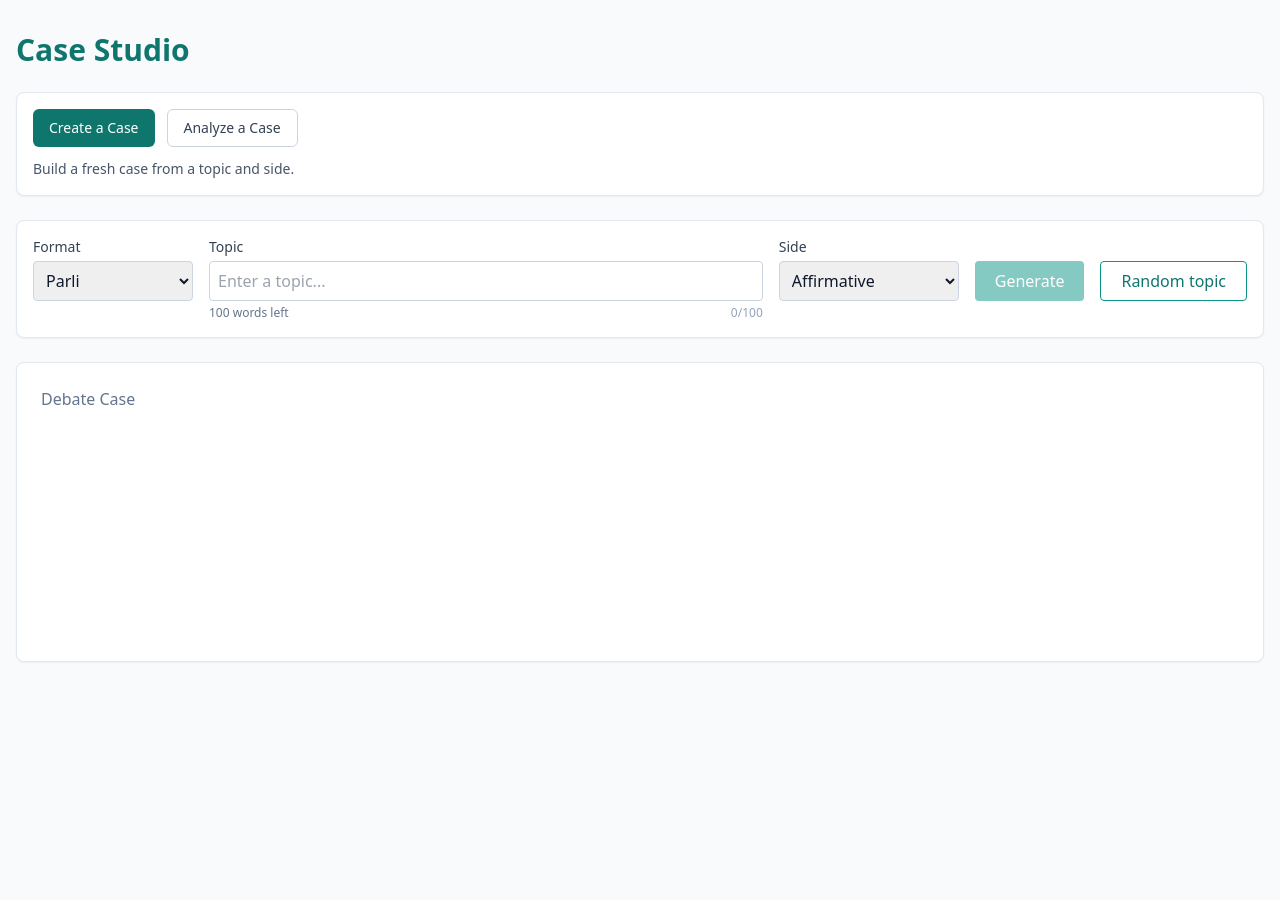
CaseBuilder › displays error state when fetch fails
Type "Topic" into the field labelled "Topic" at (486, 281), box [209,261,763,301]
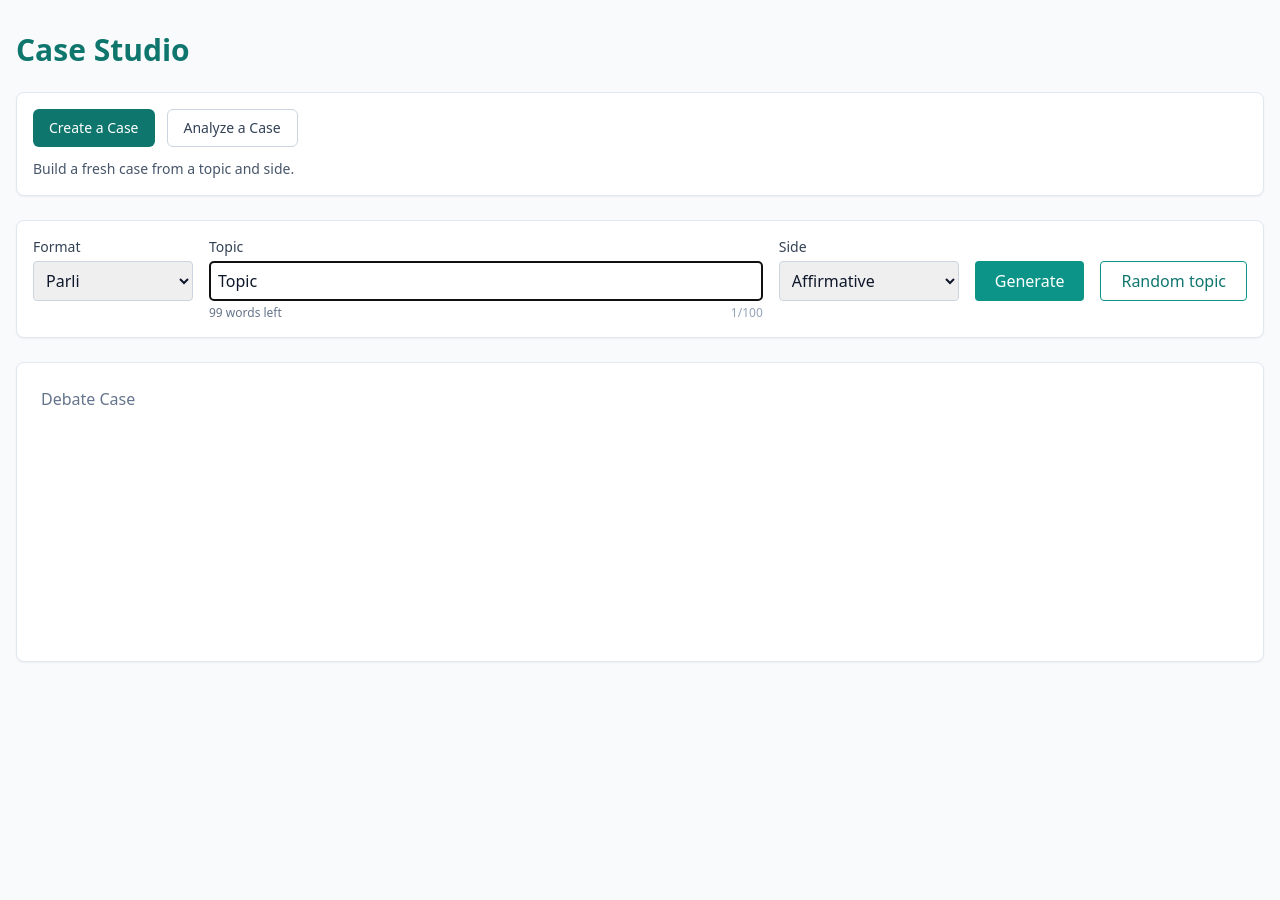
Click the button "Generate" at (1030, 281), box [975,261,1084,301]
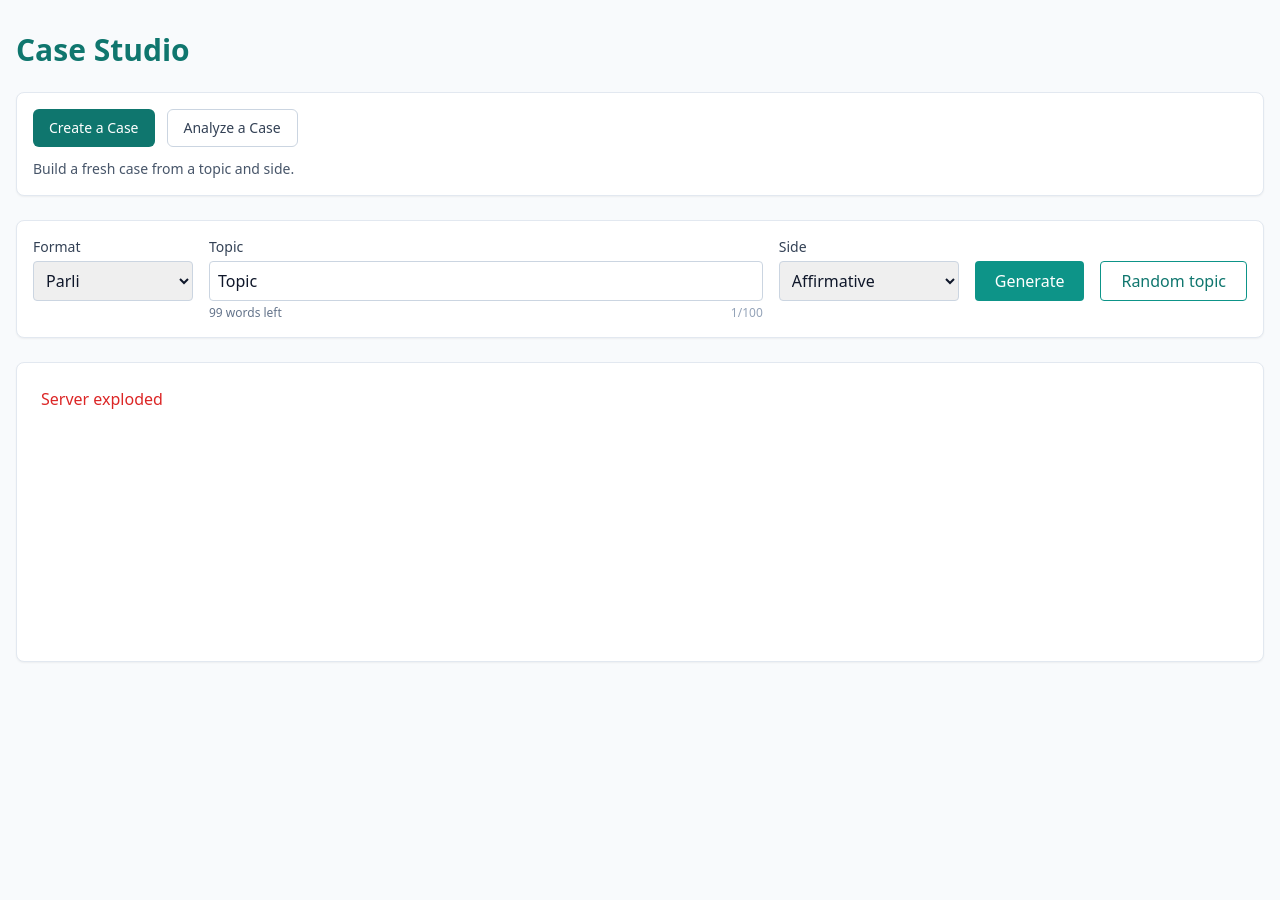
Result: the message reads "Server exploded" at [41,388,163,410]
